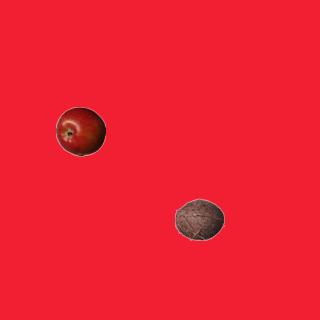Apple Braeburn: (55, 106, 105, 156)
Cocos: (174, 194, 224, 244)
